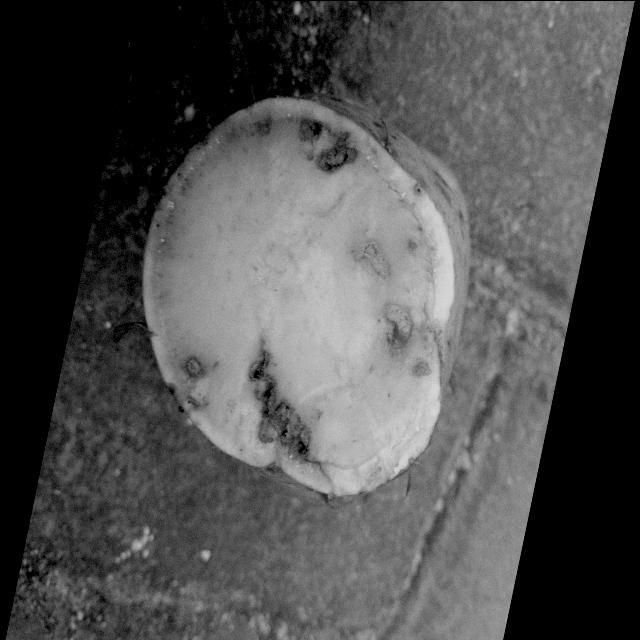Sick Sweet Potato_Tuber Rot: (144, 93, 470, 507)
